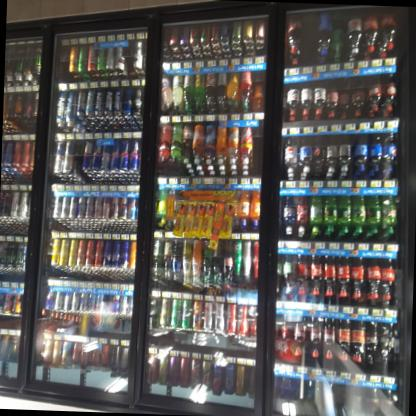empty_space: (310, 384, 350, 416), (301, 11, 318, 66), (250, 125, 264, 178)
